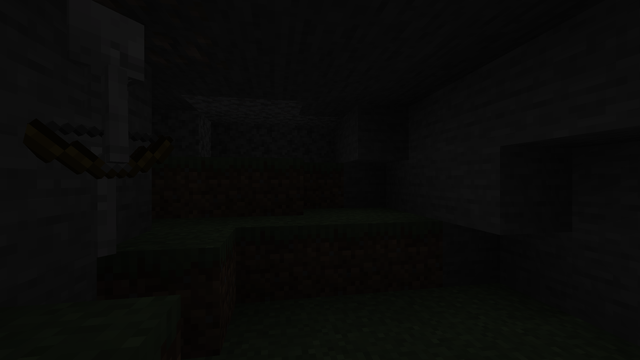squelettes: (69, 0, 151, 263)
